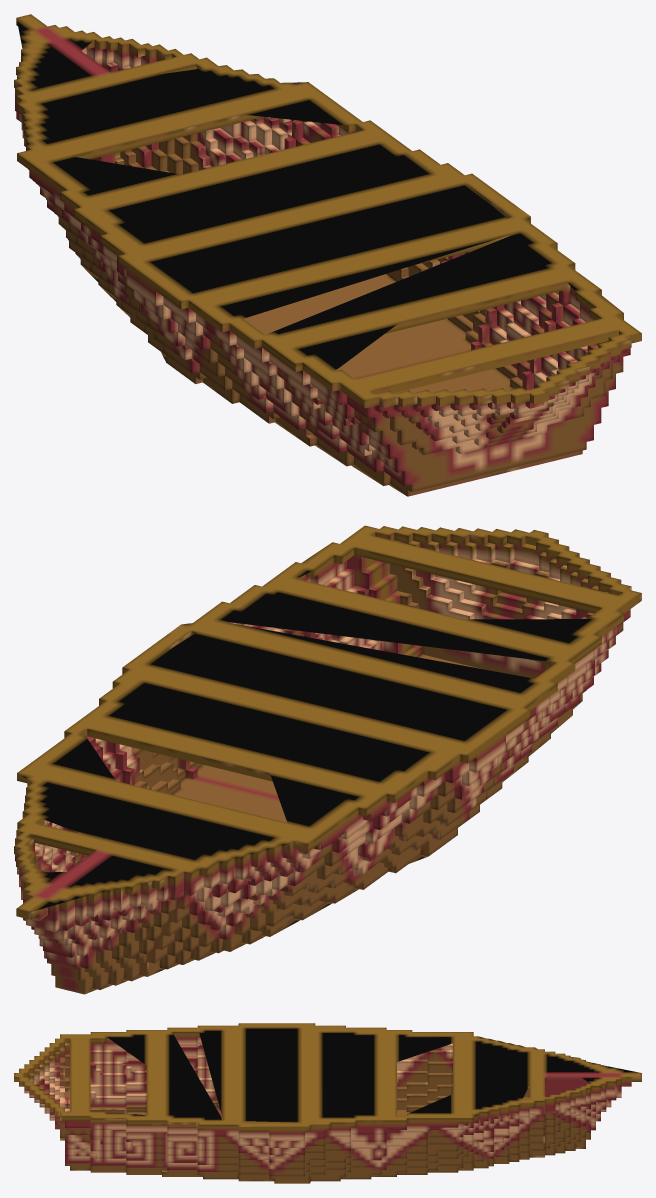
The model's file is Canoa-Leo.fbx.
The picture shows the model from 3 angles, top to bottom: view 1: azimuth 30°, elevation 25°; view 2: azimuth 150°, elevation 25°; view 3: azimuth 270°, elevation 25°; orthographic projection. The views are drawn at different scales.
Parts seen in each view (by area): view 1: Canoa-Leo; view 2: Canoa-Leo; view 3: Canoa-Leo.
Part boxes in pixels (left/top/right/bottom): Canoa-Leo: left=14, top=14, right=641, bottom=496; Canoa-Leo: left=14, top=525, right=641, bottom=994; Canoa-Leo: left=14, top=1023, right=641, bottom=1183.
Size of the model in its own units: 480 by 150 by 1230.
